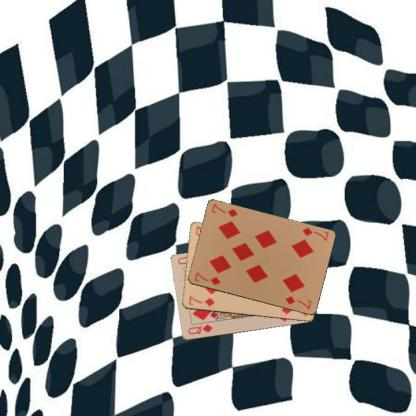7d: (299, 225, 330, 242), (192, 269, 221, 287), (186, 293, 216, 308)
Qd: (185, 322, 214, 336)
